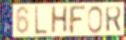6: (15, 6, 31, 37)
F: (68, 5, 87, 36)
H: (50, 5, 69, 36)
L: (34, 6, 48, 36)
O: (87, 5, 104, 34)
R: (105, 5, 122, 33)
